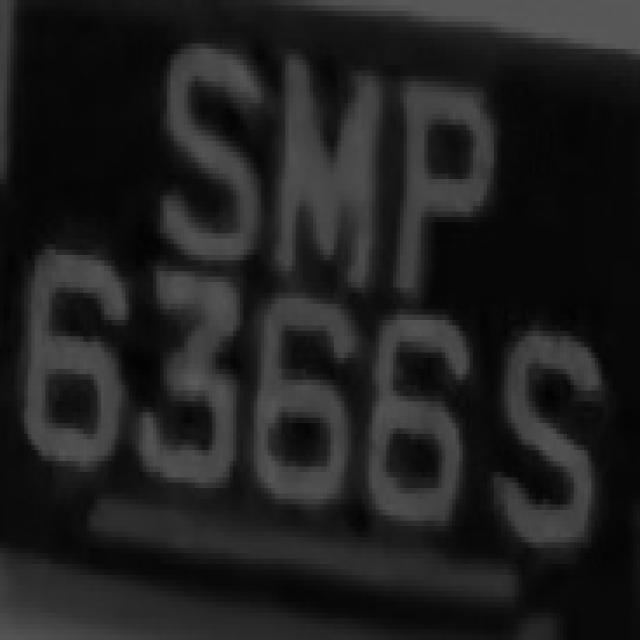3: (139, 260, 230, 488)
6: (7, 228, 132, 483), (365, 282, 470, 559), (247, 260, 358, 521)
M: (264, 43, 386, 304)
P: (393, 65, 494, 304)
S: (487, 293, 602, 564), (164, 16, 258, 282)
